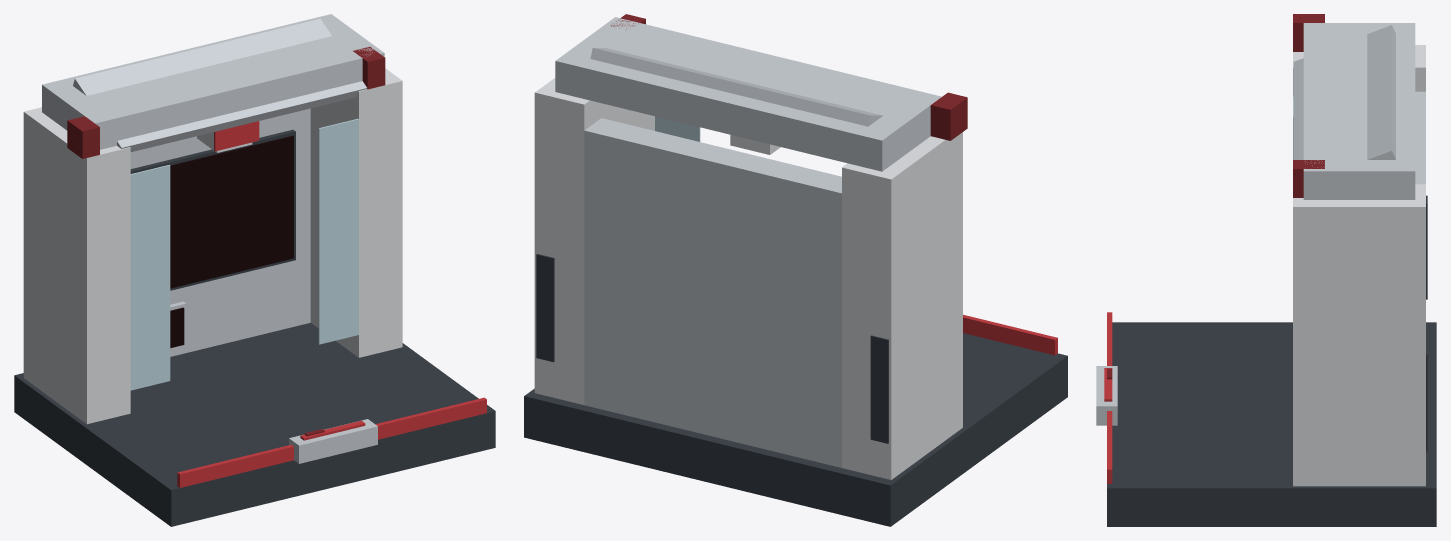
Rendered from blacklist_terminal.obj.
3 renders of one model, left to right at view 1: azimuth 30°, elevation 25°; view 2: azimuth 150°, elevation 25°; view 3: azimuth 270°, elevation 25°, orthographic. The views are drawn at different scales.
Visible parts, largest first — view 1: blacklist_terminal_e00, blacklist_terminal_e02, blacklist_terminal_e04, blacklist_terminal_e14, blacklist_terminal_e03, blacklist_terminal_e12, blacklist_terminal_e05, blacklist_terminal_e17, blacklist_terminal_e18, blacklist_terminal_e01, blacklist_terminal_e19, blacklist_terminal_e13 (+4 smaller); view 2: blacklist_terminal_e12, blacklist_terminal_e02, blacklist_terminal_e00, blacklist_terminal_e04, blacklist_terminal_e03, blacklist_terminal_e05, blacklist_terminal_e23, blacklist_terminal_e24, blacklist_terminal_e01, blacklist_terminal_e07, blacklist_terminal_e18; view 3: blacklist_terminal_e00, blacklist_terminal_e03, blacklist_terminal_e04, blacklist_terminal_e05, blacklist_terminal_e12, blacklist_terminal_e19, blacklist_terminal_e01, blacklist_terminal_e02, blacklist_terminal_e07, blacklist_terminal_e08.
Boxes of the visible parts, x1,y1,x2,y2 form: blacklist_terminal_e00: [14, 322, 495, 526]; blacklist_terminal_e02: [23, 107, 130, 424]; blacklist_terminal_e04: [42, 14, 384, 149]; blacklist_terminal_e14: [170, 135, 293, 288]; blacklist_terminal_e03: [310, 68, 402, 357]; blacklist_terminal_e12: [130, 108, 310, 356]; blacklist_terminal_e05: [73, 18, 367, 152]; blacklist_terminal_e17: [130, 164, 170, 390]; blacklist_terminal_e18: [318, 118, 358, 344]; blacklist_terminal_e01: [177, 397, 486, 487]; blacklist_terminal_e19: [289, 419, 377, 463]; blacklist_terminal_e13: [130, 129, 295, 290]; blacklist_terminal_e12: [584, 118, 841, 467]; blacklist_terminal_e02: [842, 132, 962, 479]; blacklist_terminal_e00: [524, 333, 1067, 526]; blacklist_terminal_e04: [555, 17, 941, 171]; blacklist_terminal_e03: [534, 78, 654, 404]; blacklist_terminal_e05: [590, 48, 882, 126]; blacklist_terminal_e23: [870, 335, 888, 443]; blacklist_terminal_e24: [536, 254, 554, 362]; blacklist_terminal_e01: [963, 314, 1057, 355]; blacklist_terminal_e07: [930, 92, 967, 140]; blacklist_terminal_e18: [655, 116, 700, 141]; blacklist_terminal_e00: [1107, 322, 1436, 526]; blacklist_terminal_e03: [1293, 184, 1425, 486]; blacklist_terminal_e04: [1303, 23, 1415, 199]; blacklist_terminal_e05: [1293, 25, 1395, 159]; blacklist_terminal_e12: [1415, 91, 1425, 184]; blacklist_terminal_e19: [1096, 366, 1117, 425]; blacklist_terminal_e01: [1107, 312, 1112, 483]; blacklist_terminal_e02: [1293, 45, 1425, 96]; blacklist_terminal_e07: [1293, 14, 1324, 51]; blacklist_terminal_e08: [1293, 160, 1324, 197].
Bounding box in the file's own units: 0.925 × 0.924 × 0.8.
